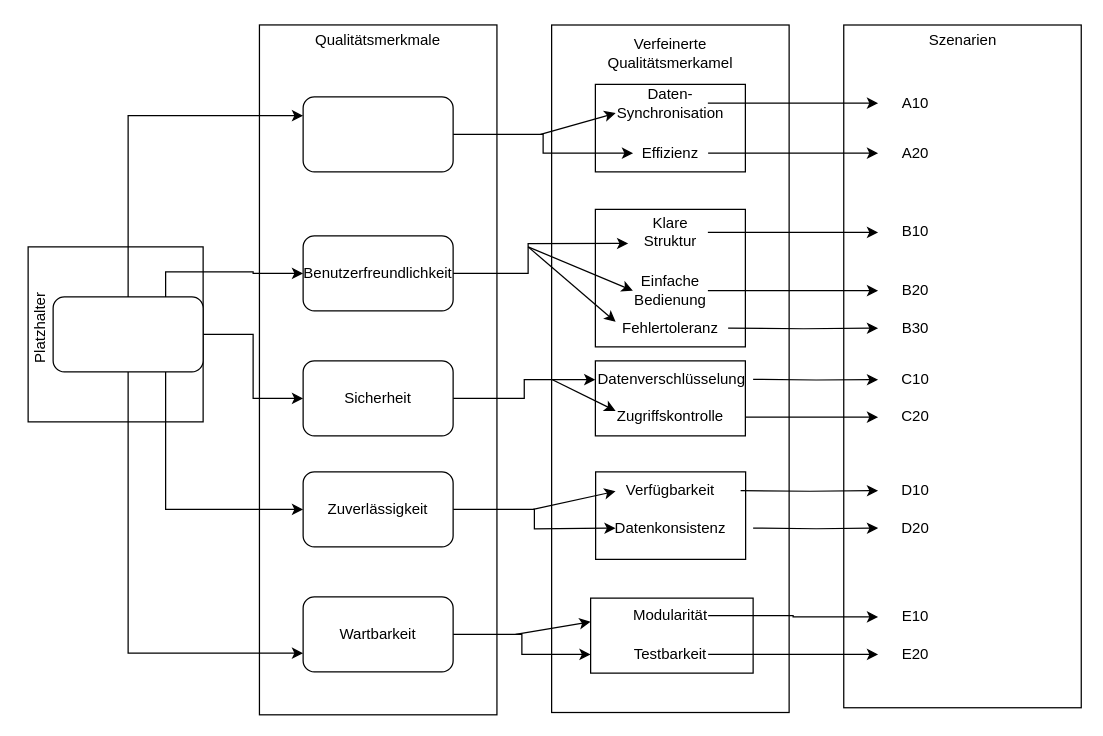
This 1103x736 diagram has some shape labels left out. Here are the shapes that lost their labels. From the top down, the box of each, then its label:
(302, 96, 453, 172): Performance
(52, 296, 203, 372): Qualität
